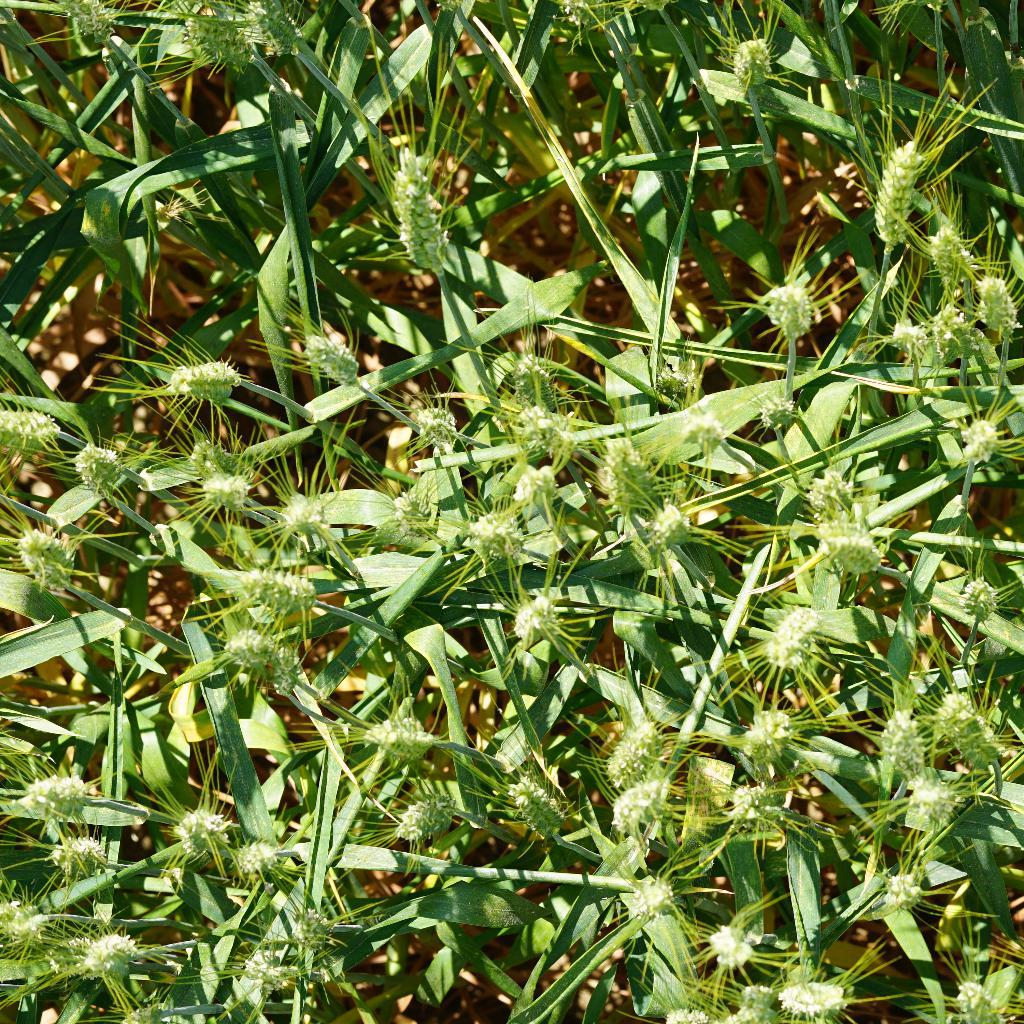0-0: (384, 139, 467, 295), (867, 129, 929, 258), (497, 763, 574, 854), (284, 320, 376, 393), (590, 433, 661, 524), (18, 761, 111, 828), (171, 0, 262, 68), (359, 701, 451, 768), (10, 529, 94, 600), (942, 695, 1009, 780), (597, 703, 666, 780), (377, 473, 447, 546), (0, 396, 79, 459), (234, 571, 333, 621), (29, 0, 122, 53), (185, 435, 256, 503), (155, 354, 244, 408), (497, 343, 567, 411), (66, 441, 135, 509), (601, 778, 679, 838), (503, 393, 575, 458), (754, 272, 826, 335), (230, 941, 310, 997), (762, 598, 823, 671), (382, 785, 466, 838), (40, 828, 122, 882), (922, 302, 991, 366), (818, 505, 882, 574), (718, 777, 793, 834), (877, 699, 937, 770), (271, 492, 342, 552), (789, 460, 866, 515), (504, 593, 571, 656), (914, 215, 967, 294), (505, 460, 571, 523), (740, 698, 796, 772), (717, 30, 778, 97), (971, 273, 1024, 350), (157, 799, 230, 854), (650, 337, 710, 402), (765, 981, 855, 1024), (634, 499, 698, 559), (395, 402, 468, 453), (243, 0, 306, 59), (193, 467, 261, 520), (460, 505, 520, 565), (672, 399, 732, 459), (623, 871, 688, 926), (942, 972, 1008, 1024), (699, 916, 758, 974), (280, 897, 339, 955), (78, 929, 149, 974), (210, 630, 286, 672), (0, 896, 59, 950), (228, 837, 290, 888), (956, 408, 1002, 473), (755, 380, 804, 436), (907, 773, 959, 825), (875, 866, 927, 914), (727, 984, 789, 1024), (958, 570, 1003, 625), (888, 316, 930, 370), (148, 194, 191, 224)
